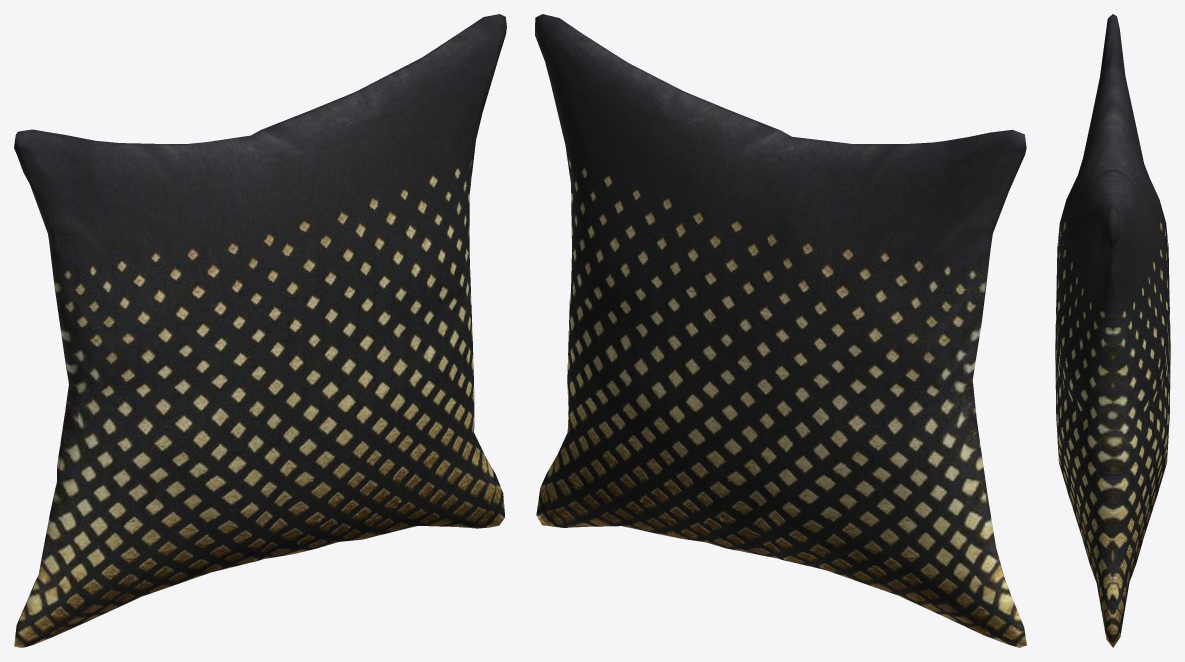
Rendered from pillow2.dae.
3 renders of one model, left to right at view 1: azimuth 30°, elevation 25°; view 2: azimuth 150°, elevation 25°; view 3: azimuth 270°, elevation 25°, orthographic. The views are drawn at different scales.
Parts seen in each view (by area): view 1: Pillow-Linquist; view 2: Pillow-Linquist; view 3: Pillow-Linquist.
Boxes of the visible parts, bbox=[...] form: Pillow-Linquist: bbox=[14, 14, 506, 647]; Pillow-Linquist: bbox=[535, 14, 1026, 647]; Pillow-Linquist: bbox=[1055, 14, 1170, 647].
Bounding box in the file's own units: 23.28 × 5.55 × 23.39.
Materials: 1 (1 with a texture image).
